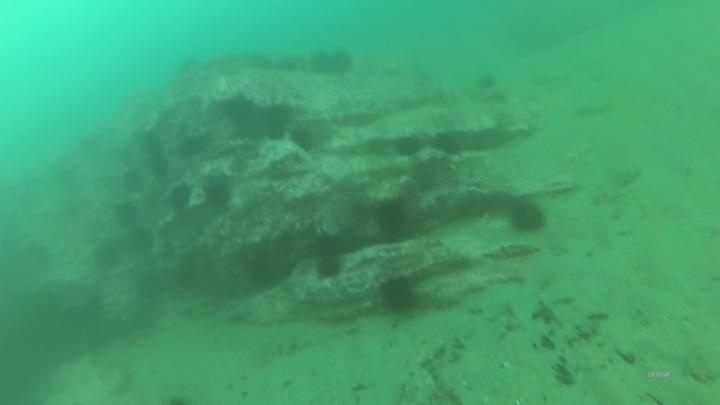echinus: (377, 273, 421, 317), (372, 196, 412, 239), (506, 199, 548, 237), (200, 174, 235, 211), (307, 230, 346, 263), (91, 239, 125, 275), (321, 46, 355, 79), (429, 129, 465, 158), (164, 181, 195, 214), (286, 124, 318, 155), (111, 198, 143, 229), (307, 48, 339, 79), (312, 253, 345, 282), (392, 133, 425, 160), (119, 167, 148, 196)
holothurian: (256, 331, 318, 365), (481, 239, 541, 263)
